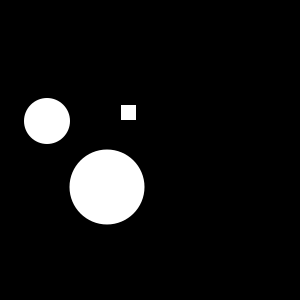circle: (121, 105, 136, 120)
rectangle: (70, 150, 144, 224), (24, 98, 70, 144)
